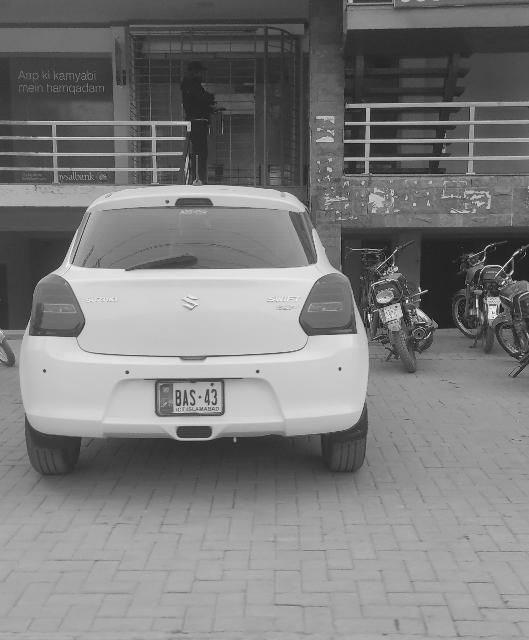Number: (175, 388, 222, 408)
